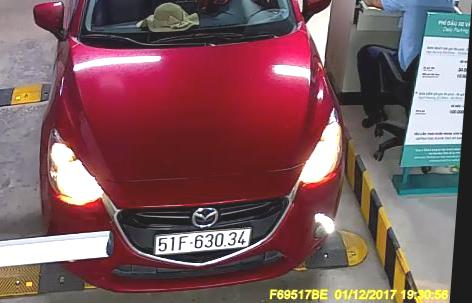License_Plate: (145, 227, 261, 257)
